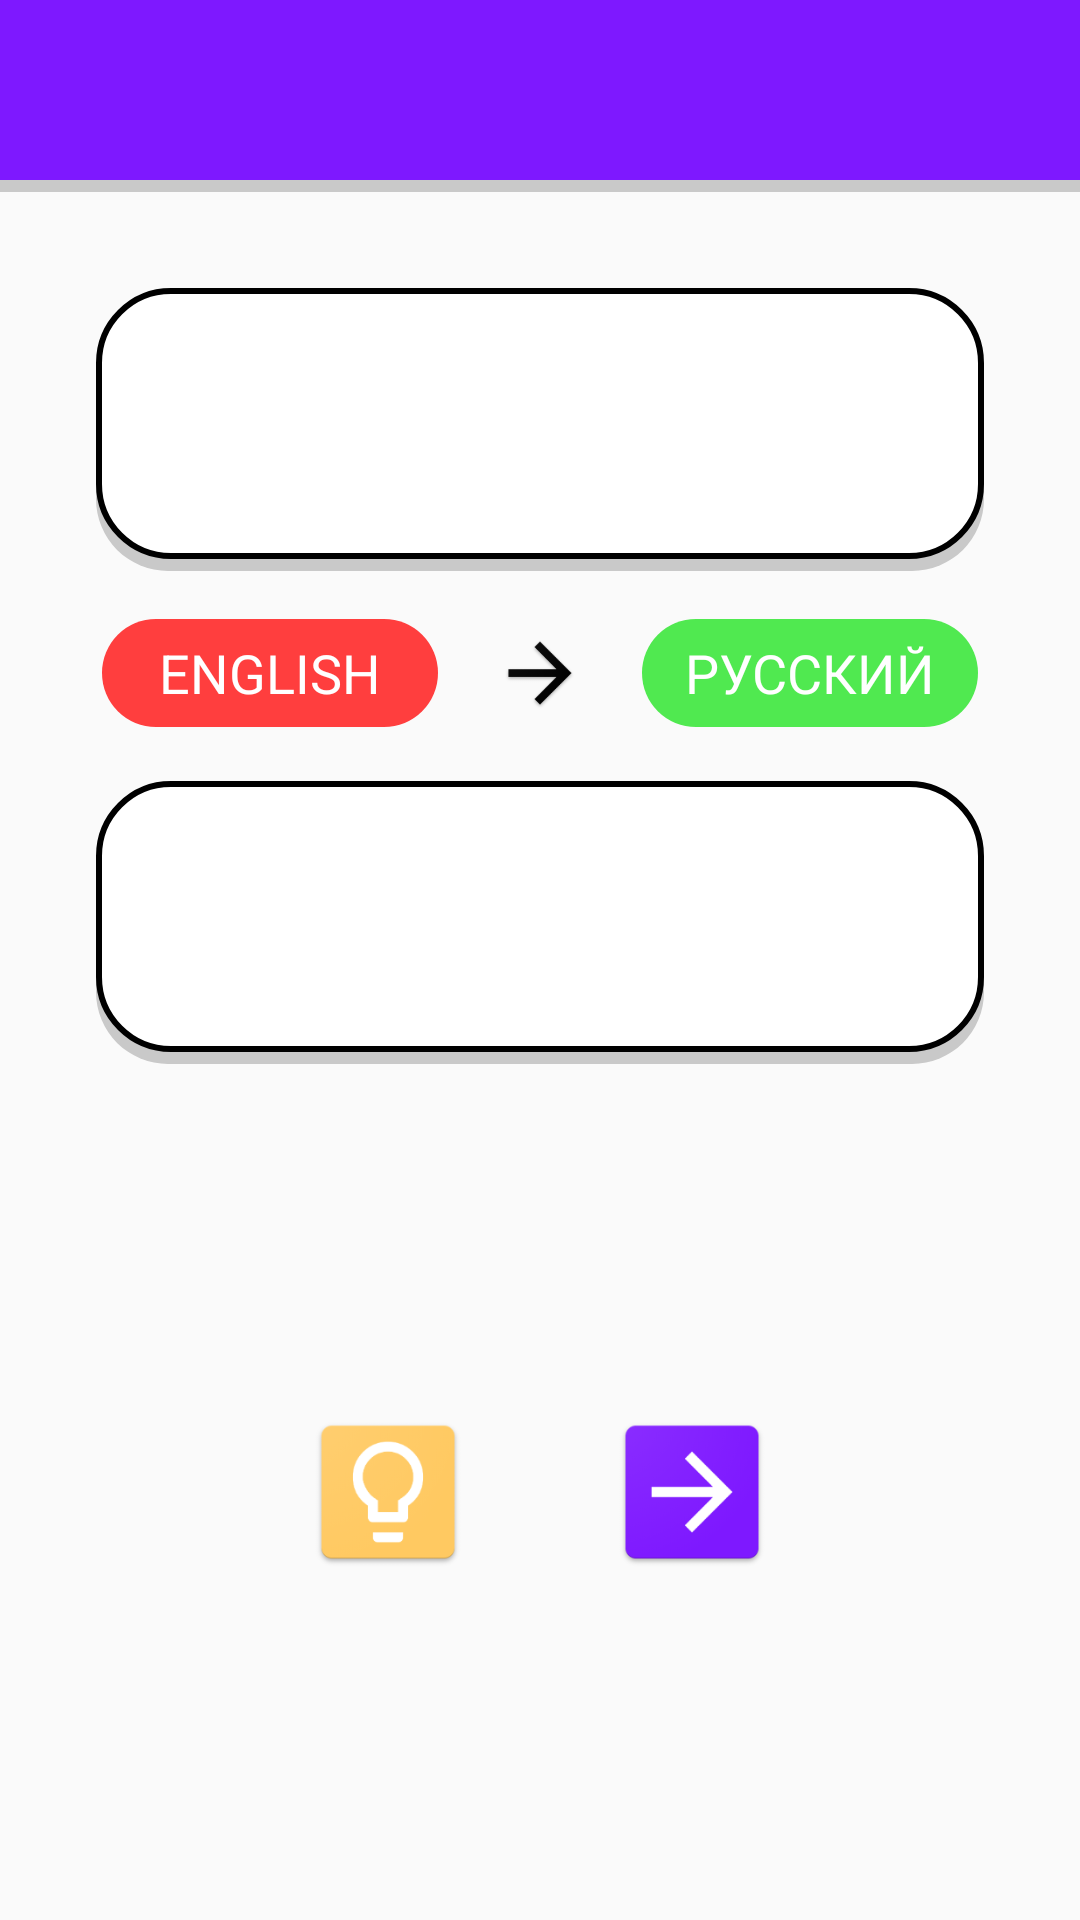

Screen size 1080w x 1920h. Icon name, then its center in pixels as [x,y]:
Arrow: [540,673]
forward: [692,1493]
